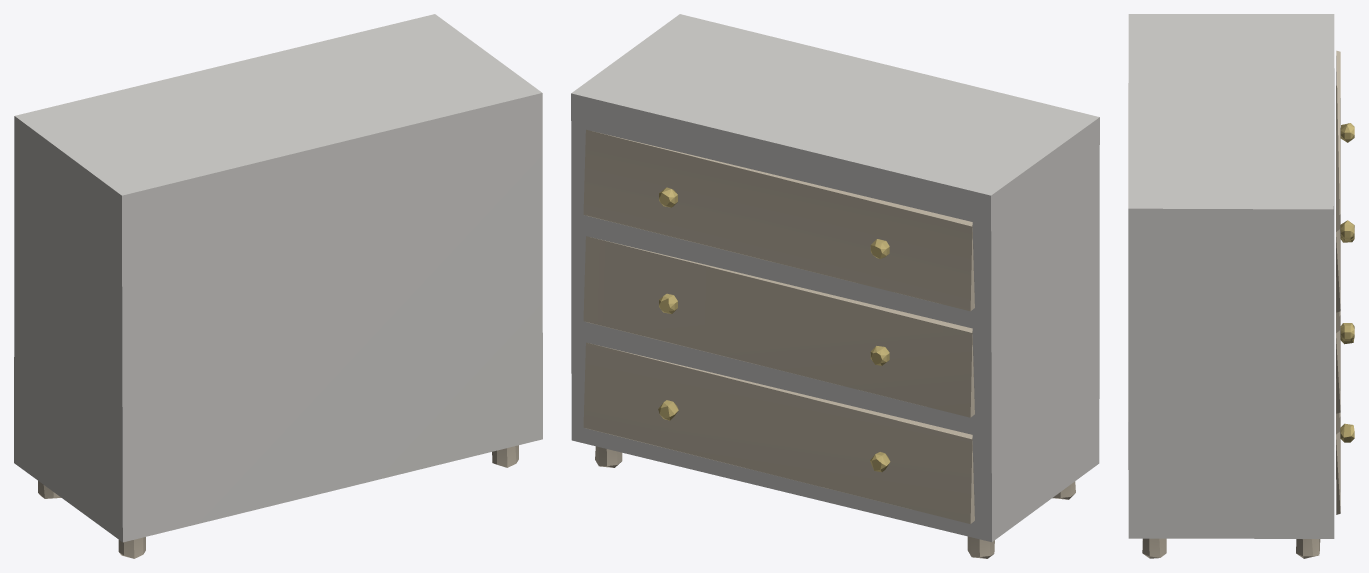
The model's file is furn_dresser__white_low.glb.
3 views of the same model, side by side, from view 1: azimuth 30°, elevation 25°; view 2: azimuth 150°, elevation 25°; view 3: azimuth 270°, elevation 25° (orthographic). The views are drawn at different scales.
Size of the model in its own units: 0.9935 by 0.8469 by 0.4871.
